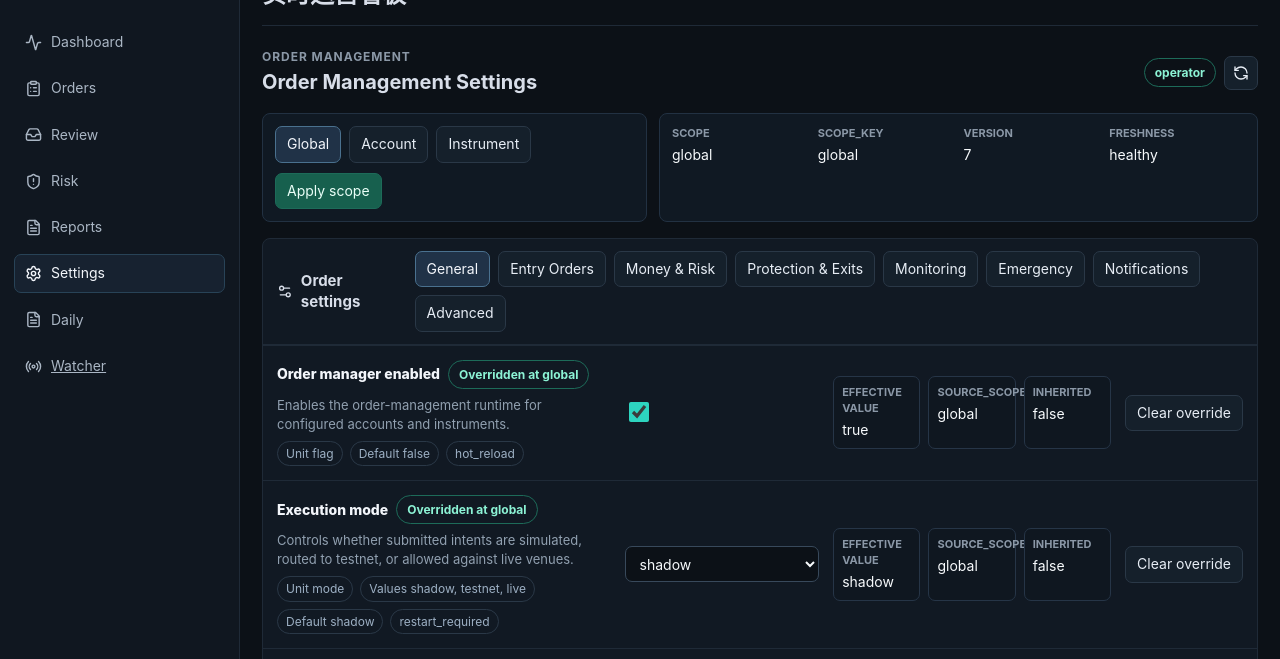
Test: order management settings › requires a reason and server review before patching settings
Click the tab "Money & Risk".
click(670, 269)  # box left=614, top=251, right=727, bottom=287
(page scrolled)
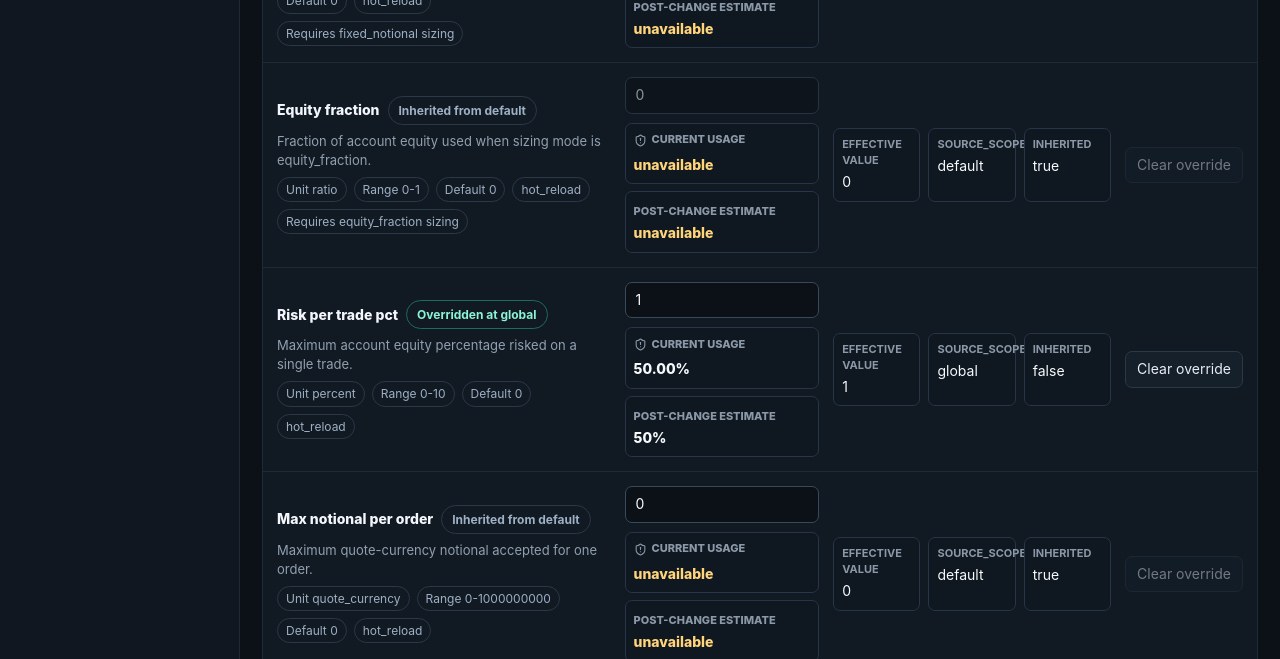
Replace the text in the number field labelled "Risk per trade pct" with "2" at (722, 300), box left=625, top=282, right=819, bottom=318
(page scrolled)
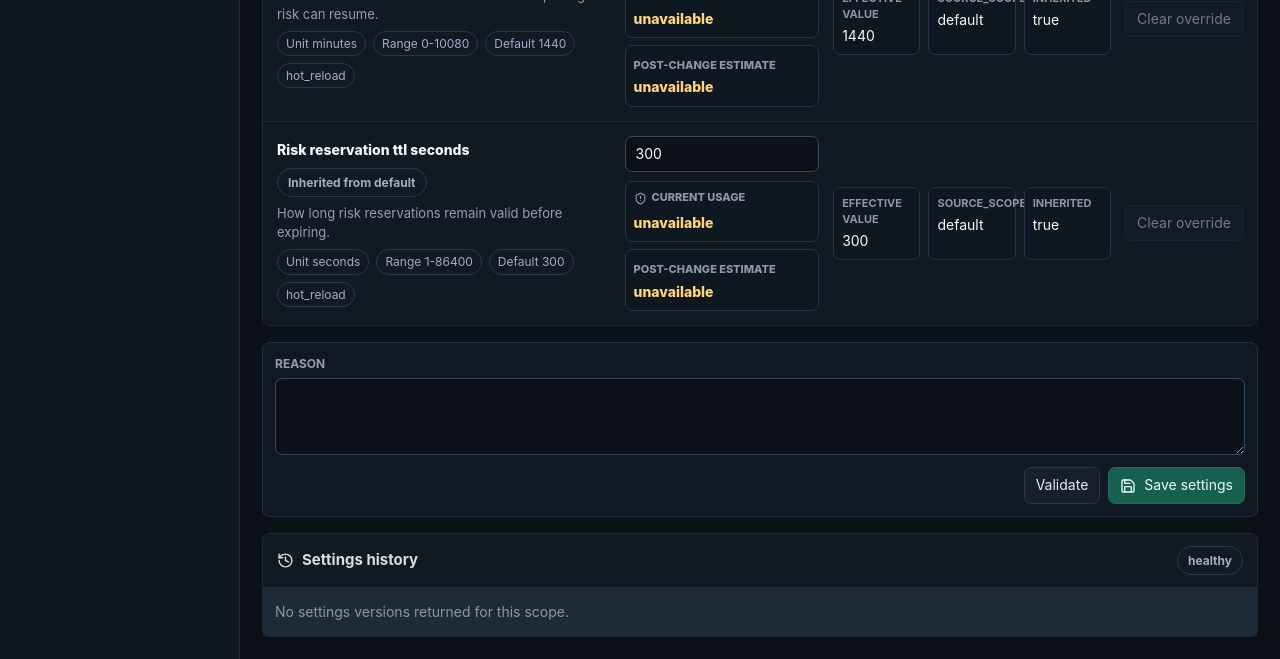
Click the button "Save settings".
click(1177, 486)  # box left=1108, top=467, right=1245, bottom=504
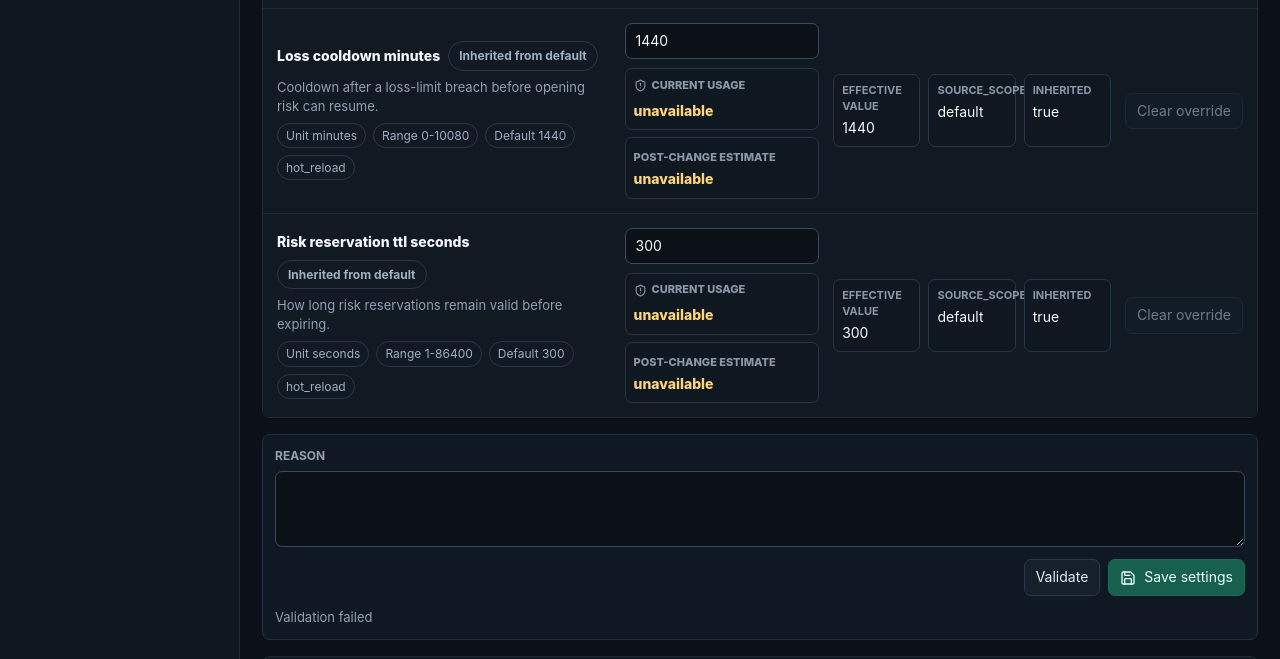
Type "raise risk for scheduled event" into the text box labelled "Reason".
click(760, 509); type("raise risk for scheduled event")  # box left=275, top=470, right=1245, bottom=547
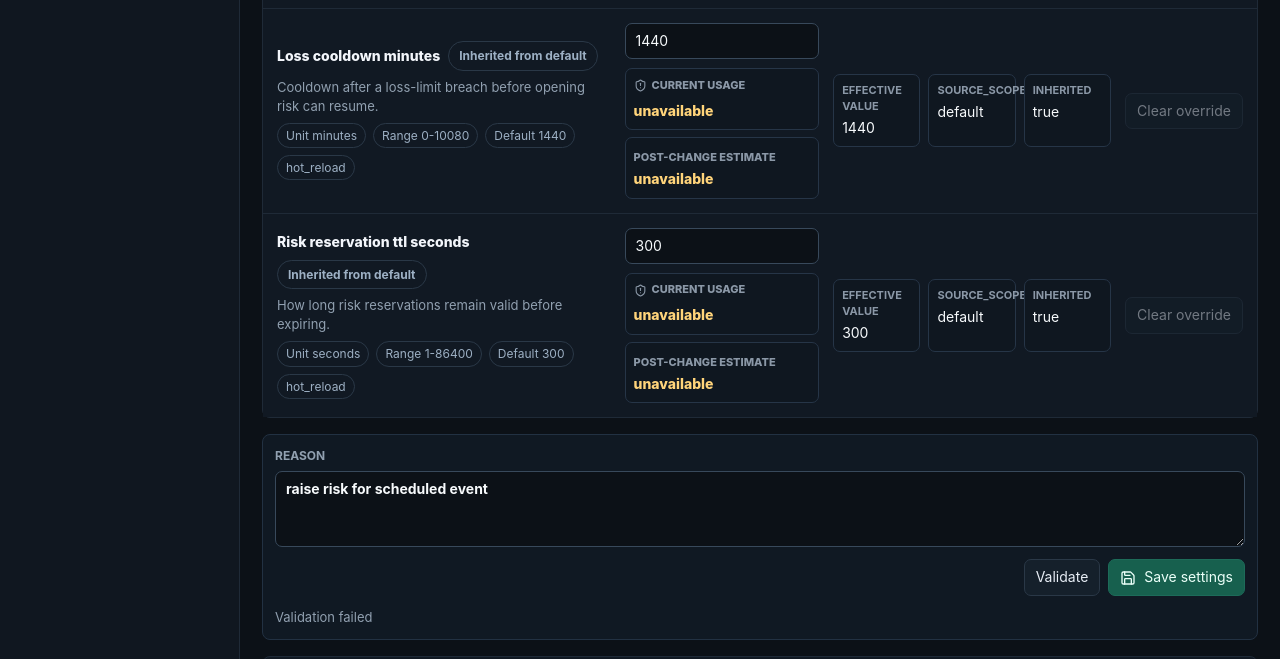
Click the button "Save settings".
click(1177, 578)  # box left=1108, top=559, right=1245, bottom=596
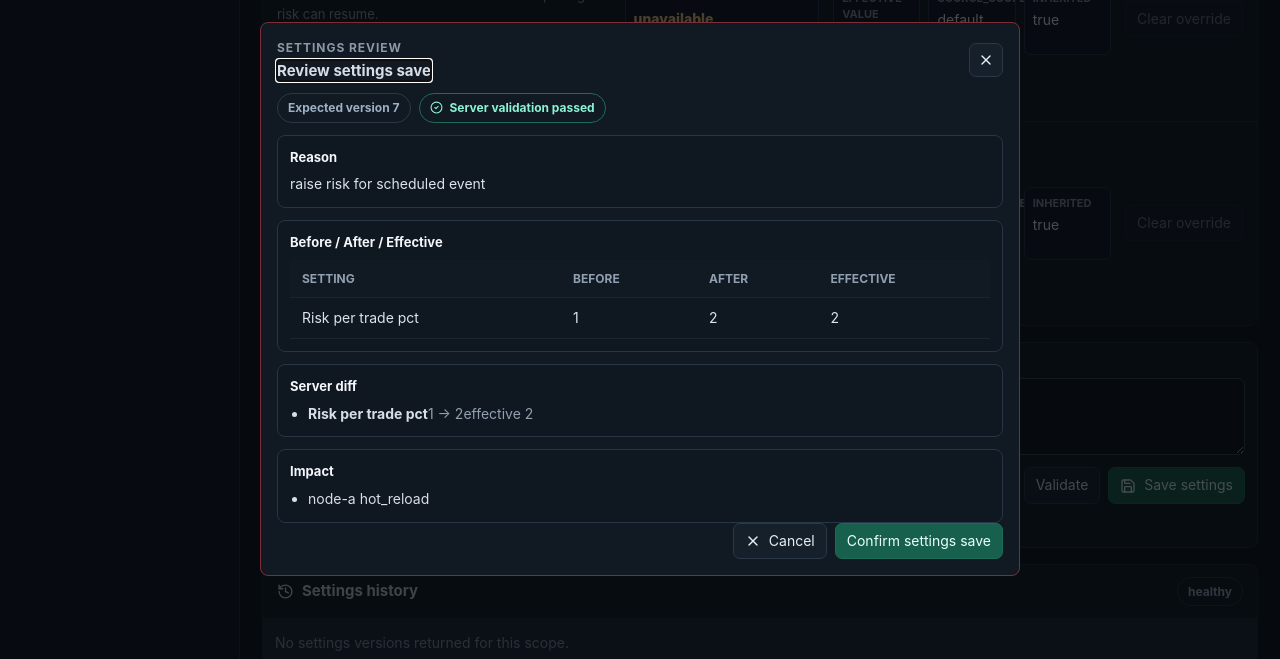
Result: the dialog "Review settings save" shows "Expected version 7" at left=260, top=22, right=1020, bottom=576
Result: the dialog "Review settings save" shows "raise risk for scheduled event" at left=290, top=176, right=485, bottom=192
Result: the dialog "Review settings save" shows "Risk per trade pct" at left=302, top=309, right=419, bottom=326
Click the button "Confirm settings save".
click(919, 541)  # box left=835, top=523, right=1003, bottom=559
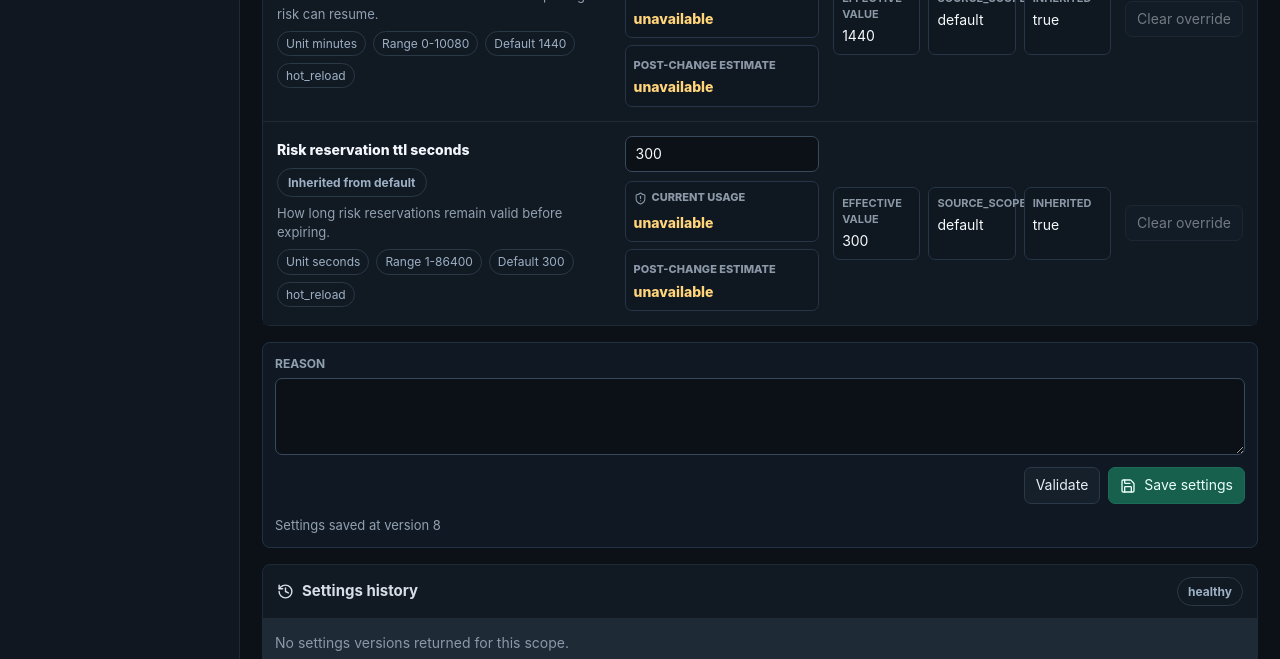
Result: the text "Settings saved at version 8" is shown at left=275, top=517, right=441, bottom=533
